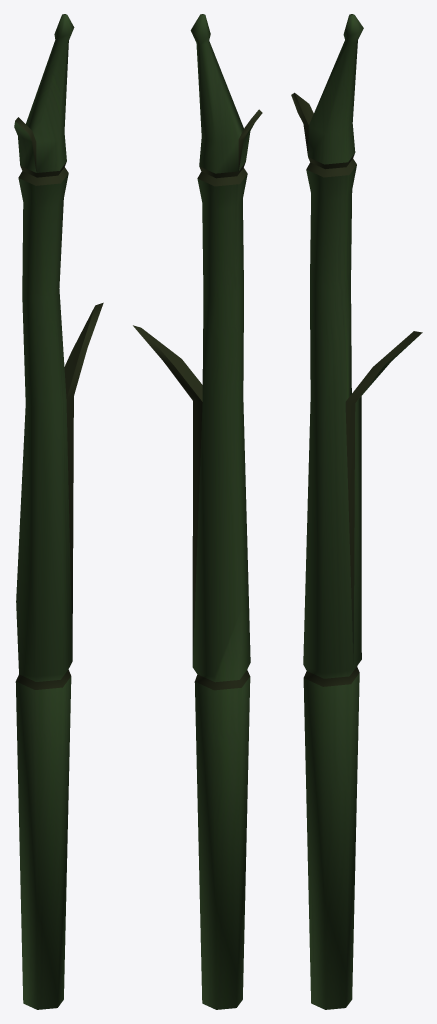
The model's file is Phase 4 Bamboo 3.fbx.
3 renders of one model, left to right at view 1: azimuth 30°, elevation 25°; view 2: azimuth 150°, elevation 25°; view 3: azimuth 330°, elevation 25°, orthographic.
Visible parts, largest first — view 1: Phase 4 Bamboo 3; view 2: Phase 4 Bamboo 3; view 3: Phase 4 Bamboo 3.
Boxes of the visible parts, left/top/right/bottom form: Phase 4 Bamboo 3: left=14, top=14, right=103, bottom=1009; Phase 4 Bamboo 3: left=133, top=14, right=262, bottom=1009; Phase 4 Bamboo 3: left=291, top=14, right=422, bottom=1009.
Size of the model in its own units: 76.94 by 659 by 35.58.
